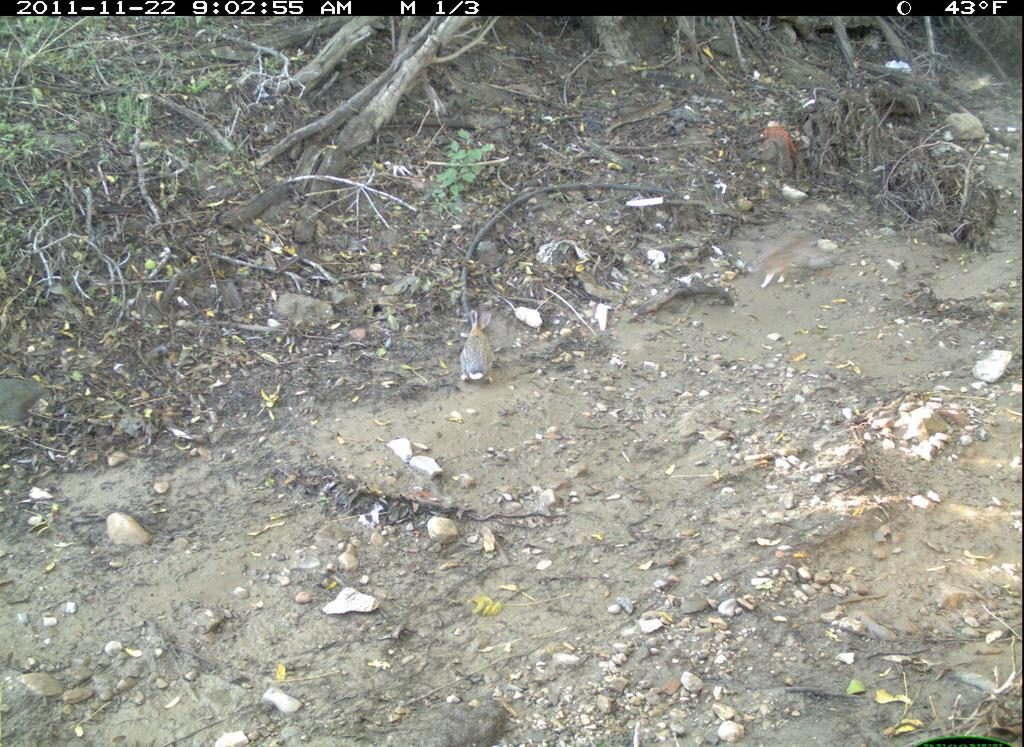rabbit: (450, 301, 505, 397)
